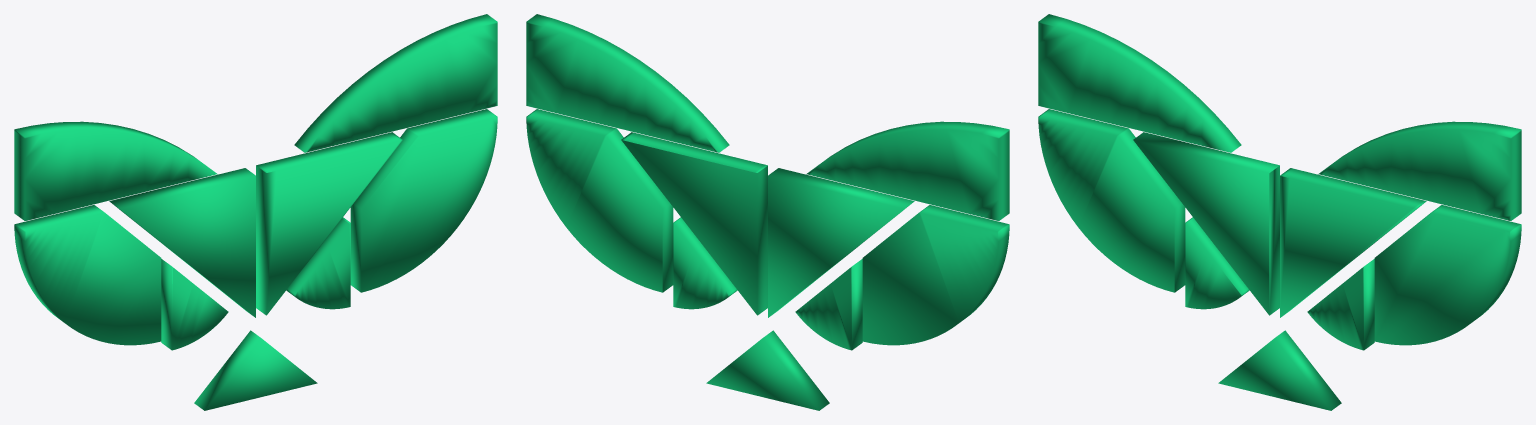
Rendered from GreenEnergy.glb.
3 views of the same model, side by side, from view 1: azimuth 30°, elevation 25°; view 2: azimuth 150°, elevation 25°; view 3: azimuth 330°, elevation 25° (orthographic).
Visible parts, largest first — view 1: Curve.081, Curve.077, Curve.083, Curve.079, Curve.080, Curve.076, Curve.075, Curve.078, Curve.082; view 2: Curve.081, Curve.077, Curve.083, Curve.079, Curve.080, Curve.076, Curve.075, Curve.078, Curve.082; view 3: Curve.077, Curve.081, Curve.079, Curve.083, Curve.076, Curve.080, Curve.075, Curve.082, Curve.078.
Part boxes in pixels (bbox=[...]): Curve.081: bbox=[350, 109, 497, 292]; Curve.077: bbox=[14, 205, 161, 345]; Curve.083: bbox=[294, 14, 497, 152]; Curve.079: bbox=[14, 121, 217, 220]; Curve.080: bbox=[256, 132, 402, 315]; Curve.076: bbox=[109, 168, 255, 317]; Curve.075: bbox=[194, 330, 317, 410]; Curve.078: bbox=[161, 259, 228, 350]; Curve.082: bbox=[286, 217, 350, 309]; Curve.081: bbox=[526, 109, 673, 292]; Curve.077: bbox=[862, 205, 1009, 345]; Curve.083: bbox=[526, 14, 729, 152]; Curve.079: bbox=[806, 121, 1009, 220]; Curve.080: bbox=[621, 132, 767, 315]; Curve.076: bbox=[768, 168, 914, 317]; Curve.075: bbox=[706, 330, 829, 410]; Curve.078: bbox=[795, 259, 862, 350]; Curve.082: bbox=[673, 217, 737, 309]; Curve.077: bbox=[1038, 109, 1185, 292]; Curve.081: bbox=[1374, 205, 1521, 345]; Curve.079: bbox=[1038, 14, 1241, 152]; Curve.083: bbox=[1318, 121, 1521, 220]; Curve.076: bbox=[1133, 132, 1279, 315]; Curve.080: bbox=[1280, 168, 1426, 317]; Curve.075: bbox=[1218, 330, 1341, 410]; Curve.082: bbox=[1307, 259, 1374, 350]; Curve.078: bbox=[1185, 217, 1249, 309].
Bounding box in the file's own units: 3.42 × 2.19 × 0.1336.
